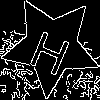H: (26, 21, 77, 77)
